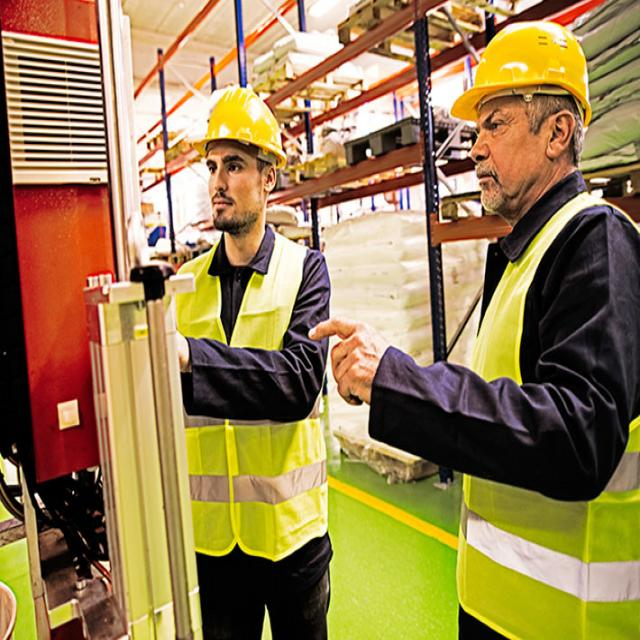Reflective-Jacket: (450, 194, 640, 640), (170, 234, 332, 568)
Safety-Helmet: (449, 16, 598, 127), (194, 81, 290, 168)
